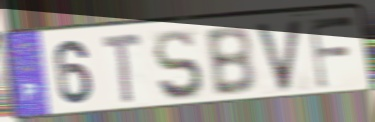6: (52, 37, 95, 110)
B: (202, 24, 259, 99)
F: (306, 15, 358, 92)
S: (151, 27, 206, 103)
T: (100, 31, 145, 108)
V: (252, 16, 305, 95)
